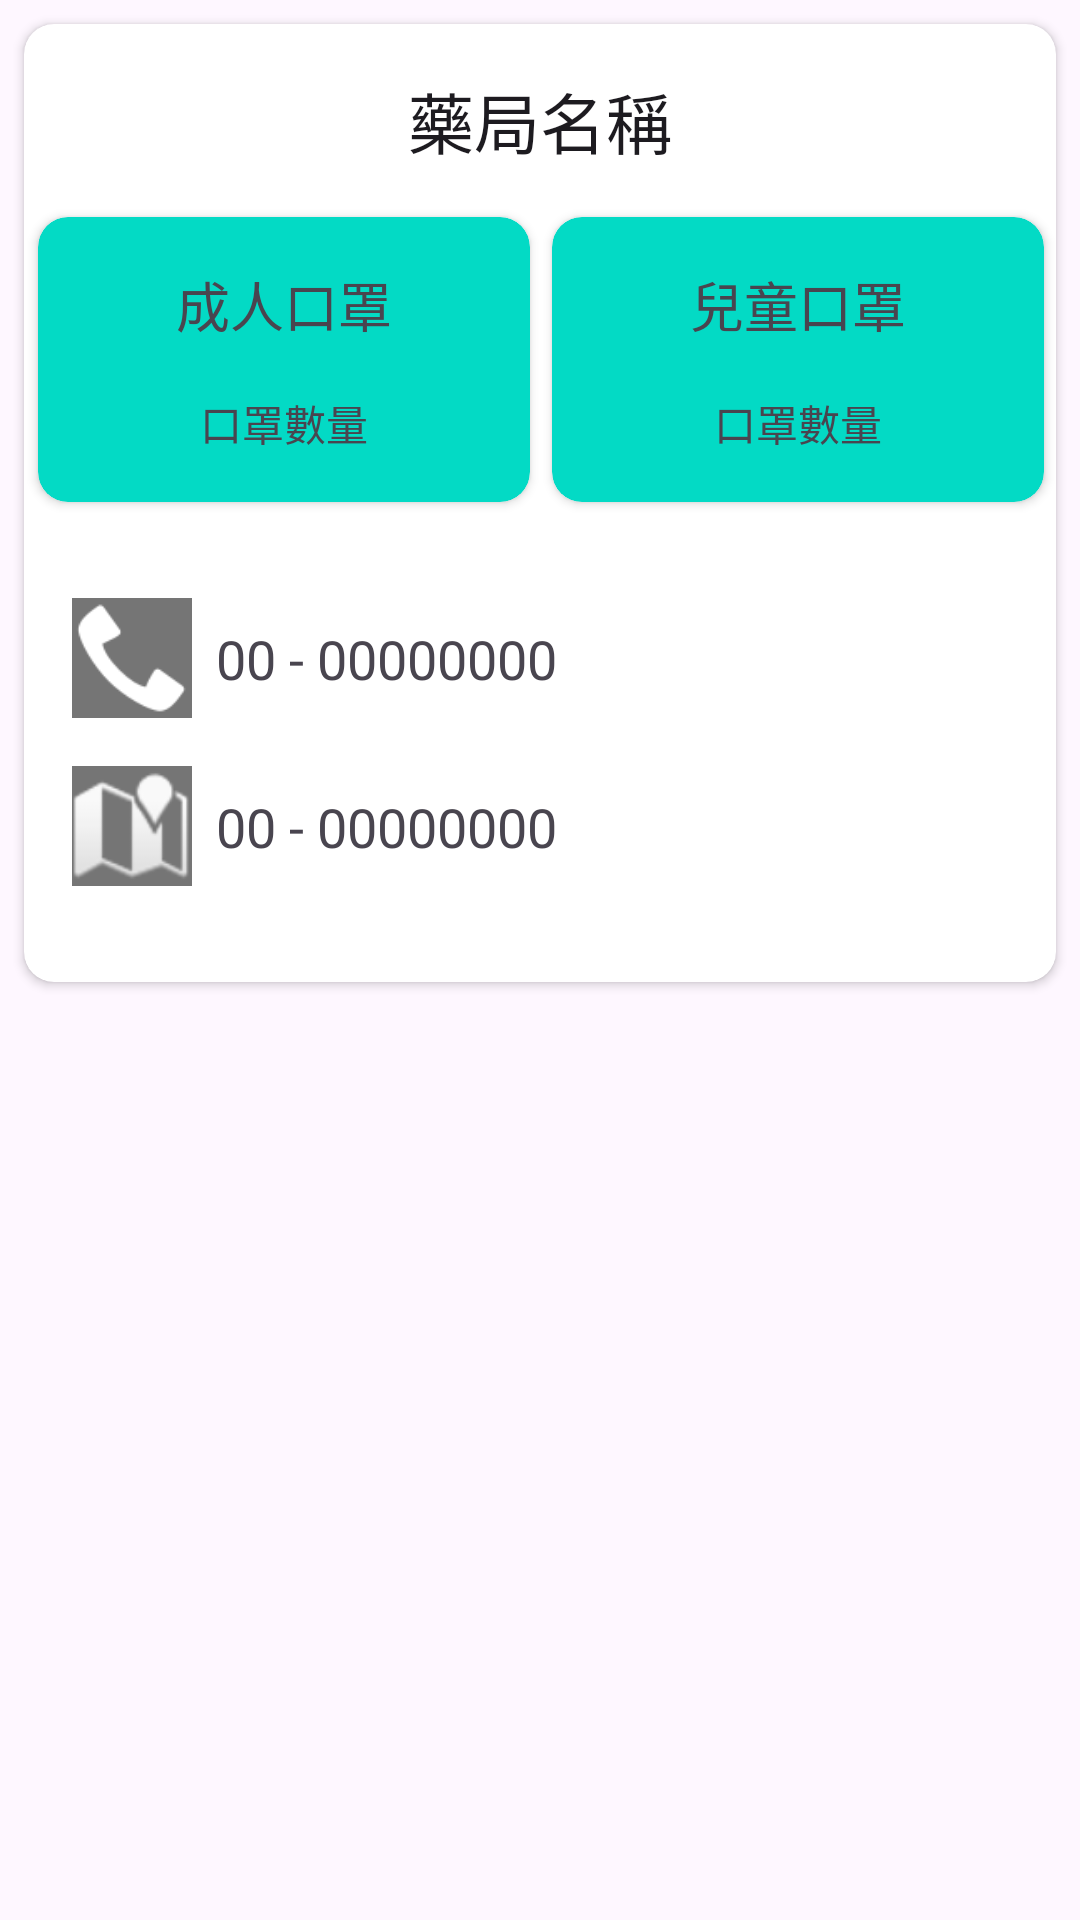

Icon bounding boxes for this 1080 x 1920 phone screenshot, format box=[x1, y1, x2, y2]:
map: box=[72, 766, 192, 886]
phone call: box=[72, 598, 192, 718]
